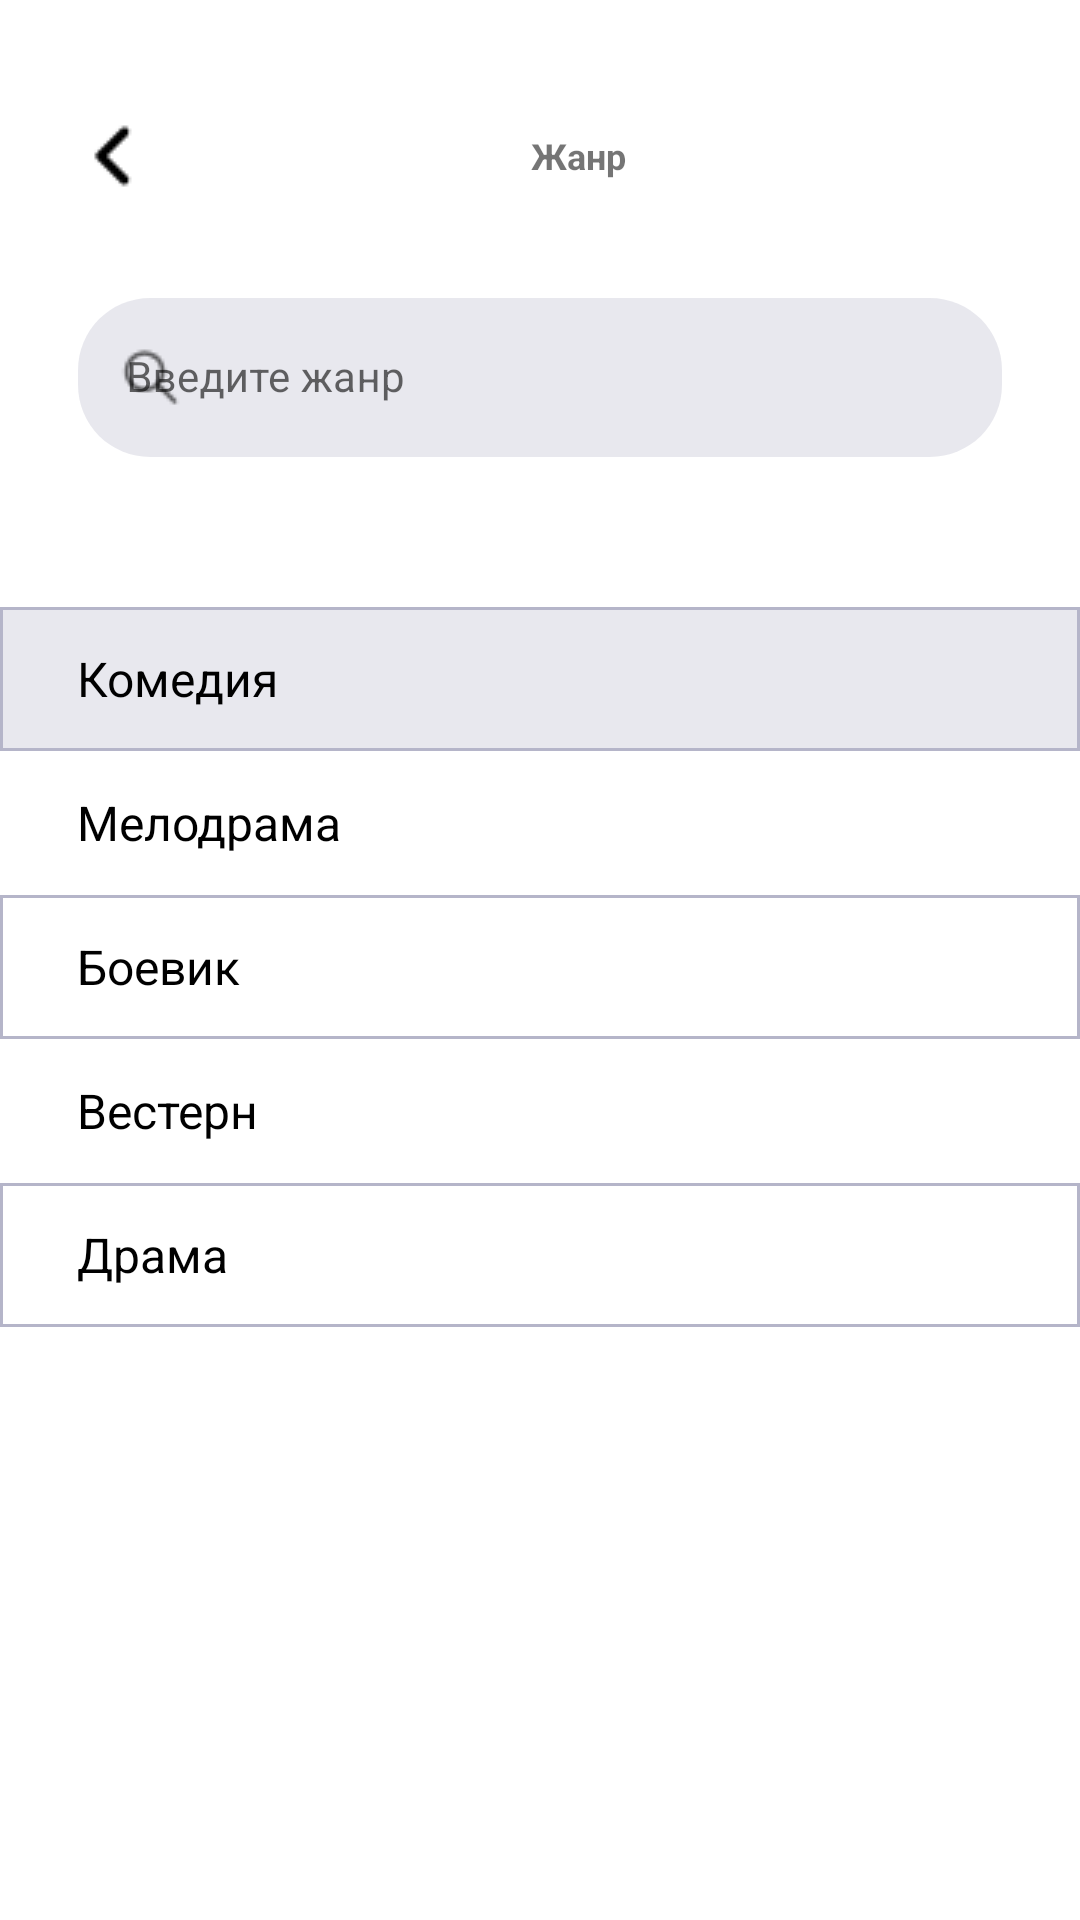

Icons on this 1080px x 1920px Android screen, each with its box as (x1, y1, x2, y2):
caret left: (94, 125, 131, 187)
